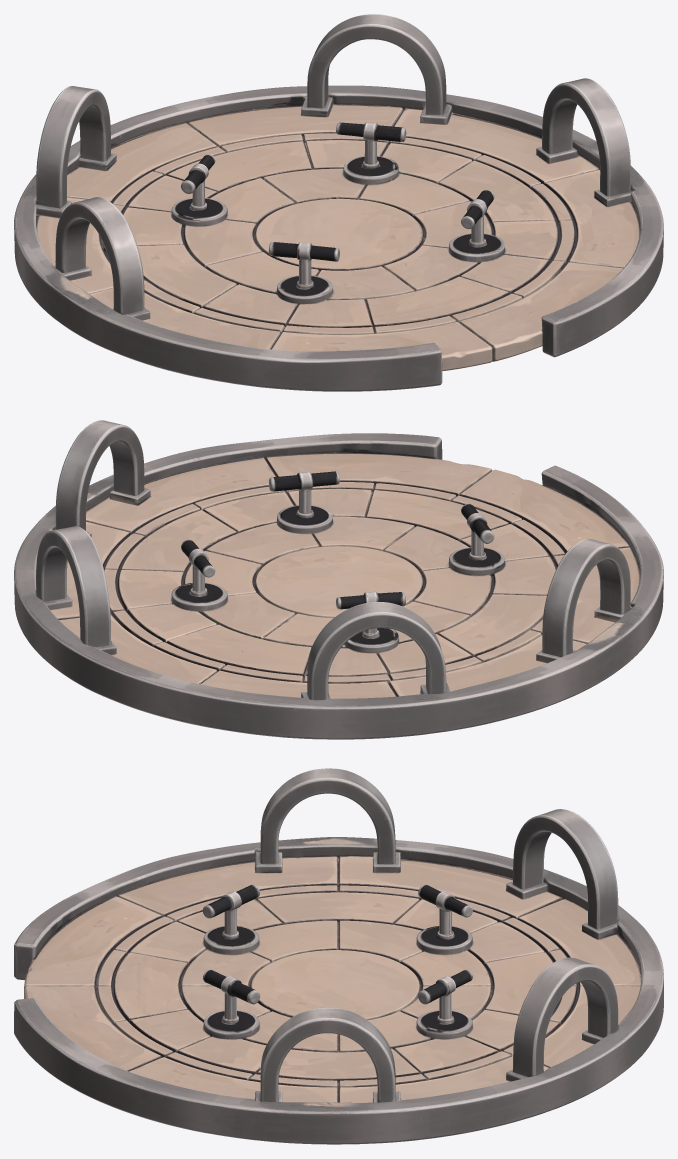
The model's file is Nivel3_MI_El_fraseo_nivel_completo.glb.
3 views of the same model, one above another, from view 1: azimuth 30°, elevation 25°; view 2: azimuth 150°, elevation 25°; view 3: azimuth 270°, elevation 25° (orthographic).
Parts seen in each view (by area): view 1: Mesh_0; view 2: Mesh_0; view 3: Mesh_0.
Part boxes in pixels (x1=…): Mesh_0: x1=14, y1=14, x2=663, y2=391; Mesh_0: x1=14, y1=420, x2=663, y2=739; Mesh_0: x1=14, y1=768, x2=663, y2=1144.
Bounding box in the file's own units: 1.9 × 0.377 × 1.9.
Materials: 1 (1 with a texture image).
